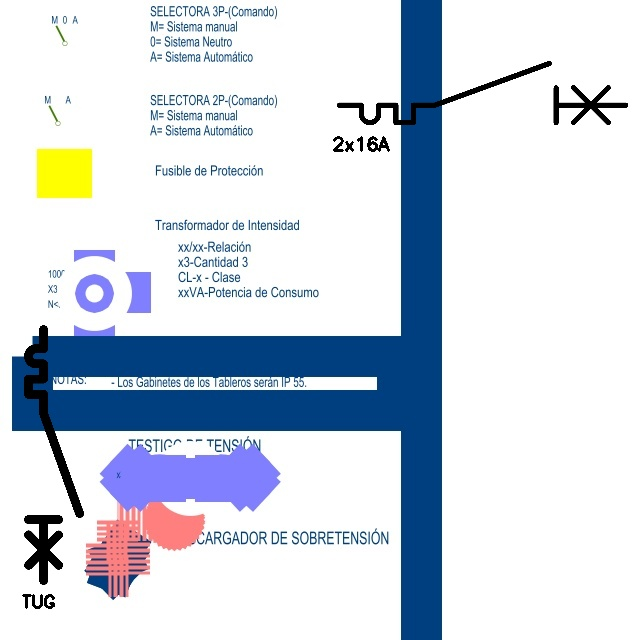interruptor_termomagnetico: (332, 56, 633, 130), (22, 323, 86, 587)
